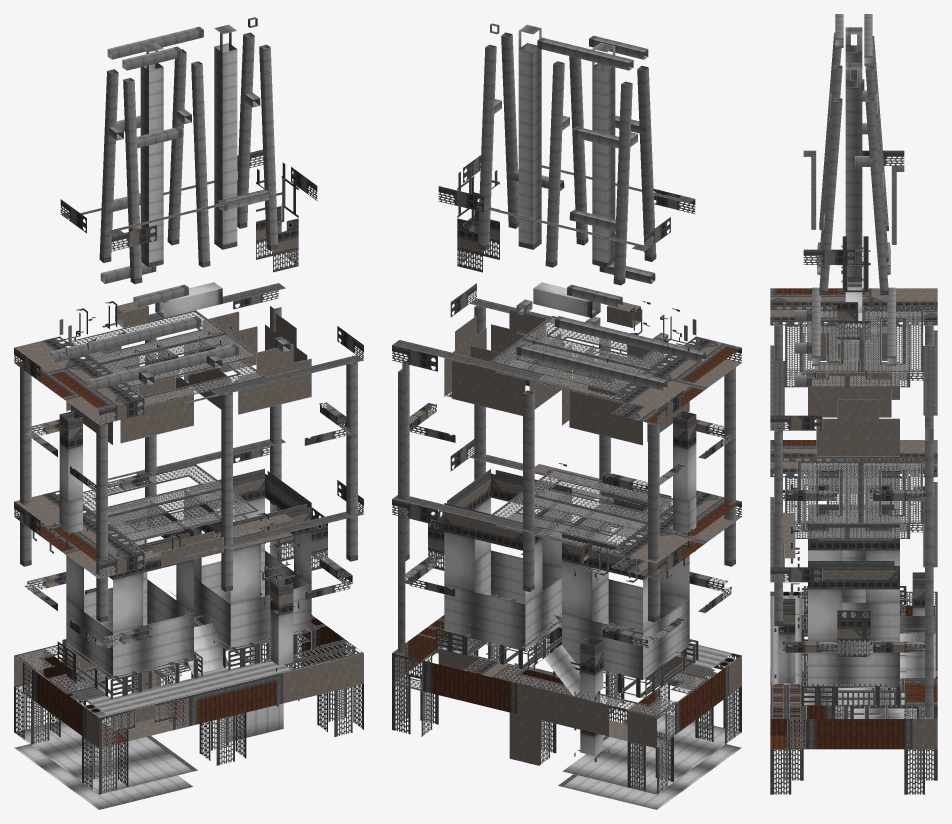
Rendered from cokerunit_mirrored.obj.
The picture shows the model from 3 angles, left to right: view 1: azimuth 30°, elevation 25°; view 2: azimuth 150°, elevation 25°; view 3: azimuth 270°, elevation 25°; orthographic projection.
Visible parts, largest first — view 1: cokerunit_mirrored; view 2: cokerunit_mirrored; view 3: cokerunit_mirrored.
Boxes of the visible parts, x1,y1,x2,y2 form: cokerunit_mirrored: (14,17,363,809); cokerunit_mirrored: (392,23,741,809); cokerunit_mirrored: (770,14,937,794).
Size of the model in its own units: 9 by 23 by 5.
